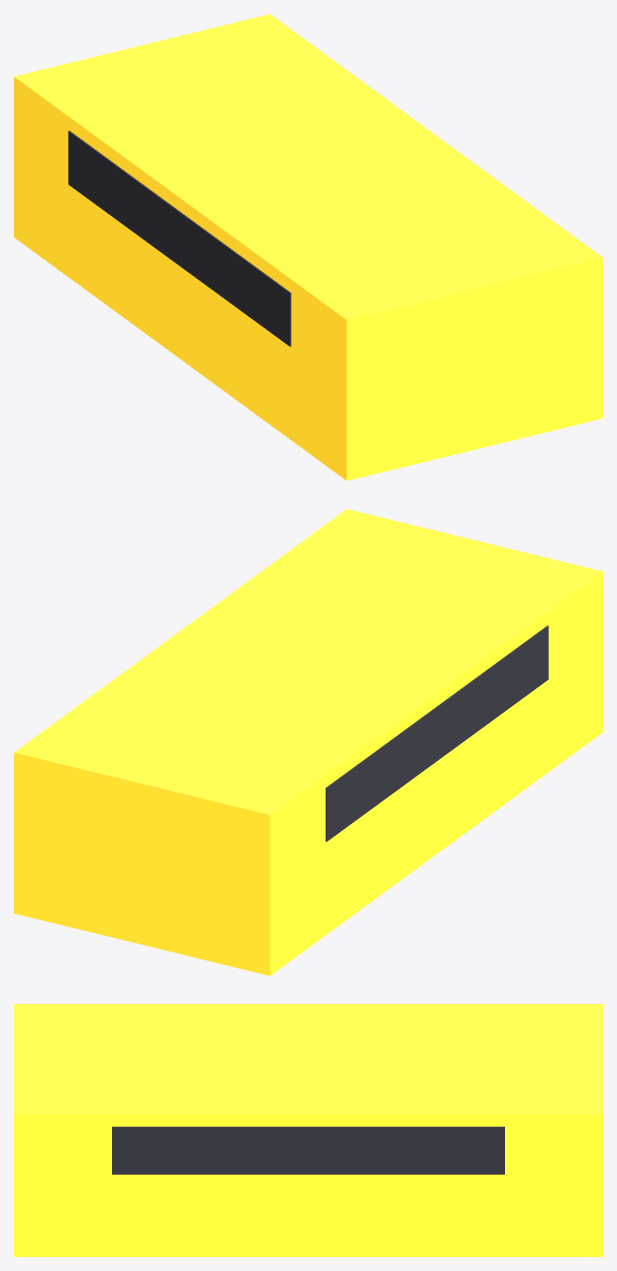
File: danfo.glb
3 renders of one model, top to bottom at view 1: azimuth 30°, elevation 25°; view 2: azimuth 150°, elevation 25°; view 3: azimuth 270°, elevation 25°, orthographic. The views are drawn at different scales.
Parts seen in each view (by area): view 1: van-body, van-glass; view 2: van-body, van-glass; view 3: van-body, van-glass.
Part boxes in pixels (x1,y1,x2,y2): van-body: [14, 14, 602, 480]; van-glass: [68, 130, 291, 346]; van-body: [14, 509, 602, 975]; van-glass: [325, 625, 548, 841]; van-body: [14, 1004, 602, 1256]; van-glass: [112, 1126, 504, 1174].
Bounding box in the file's own units: 2.02 × 1.2 × 4.5.
